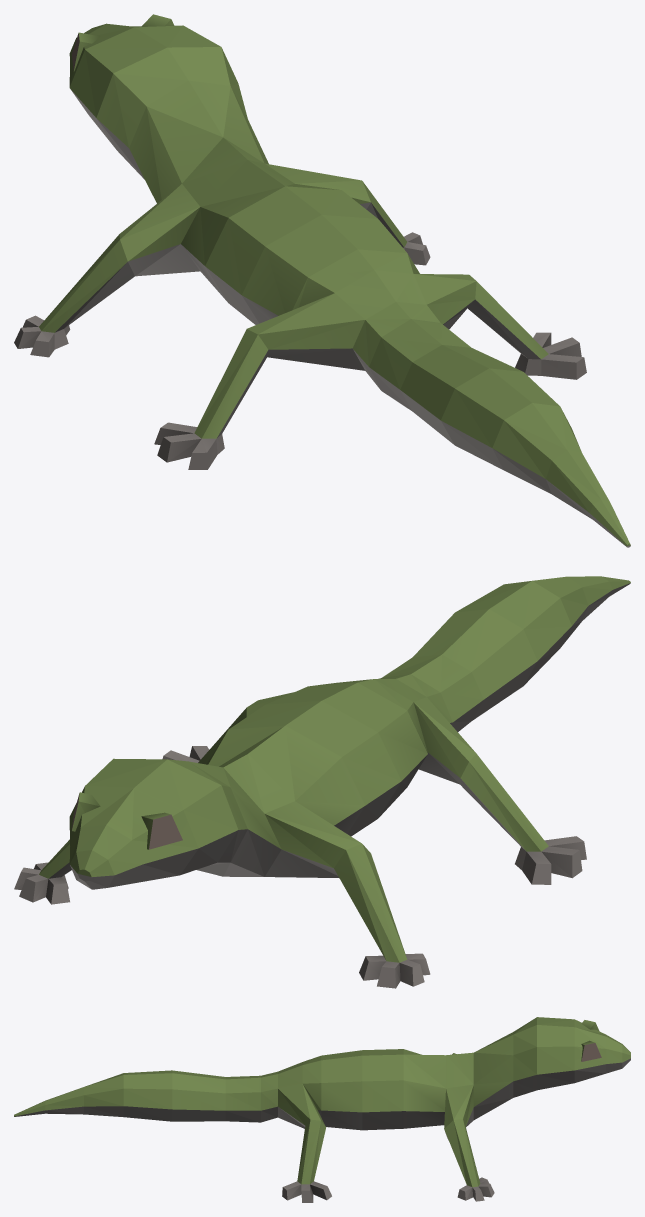
The model's file is myzelmolch.glb.
The picture shows the model from 3 angles, top to bottom: view 1: azimuth 30°, elevation 25°; view 2: azimuth 150°, elevation 25°; view 3: azimuth 270°, elevation 25°; orthographic projection. The views are drawn at different scales.
Parts seen in each view (by area): view 1: Geo_Gecko; view 2: Geo_Gecko; view 3: Geo_Gecko.
Part boxes in pixels (left/top/right/bottom): Geo_Gecko: left=14, top=14, right=630, bottom=547; Geo_Gecko: left=14, top=576, right=630, bottom=988; Geo_Gecko: left=14, top=1017, right=630, bottom=1202.
Bounding box in the file's own units: 1.09 × 0.5343 × 2.48.
